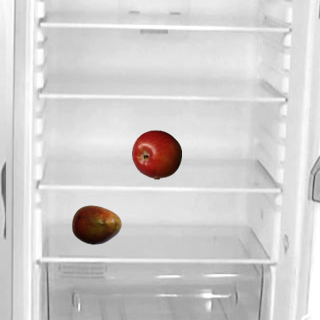Apple Braeburn: (131, 129, 181, 179)
Mango Red: (71, 199, 121, 249)
